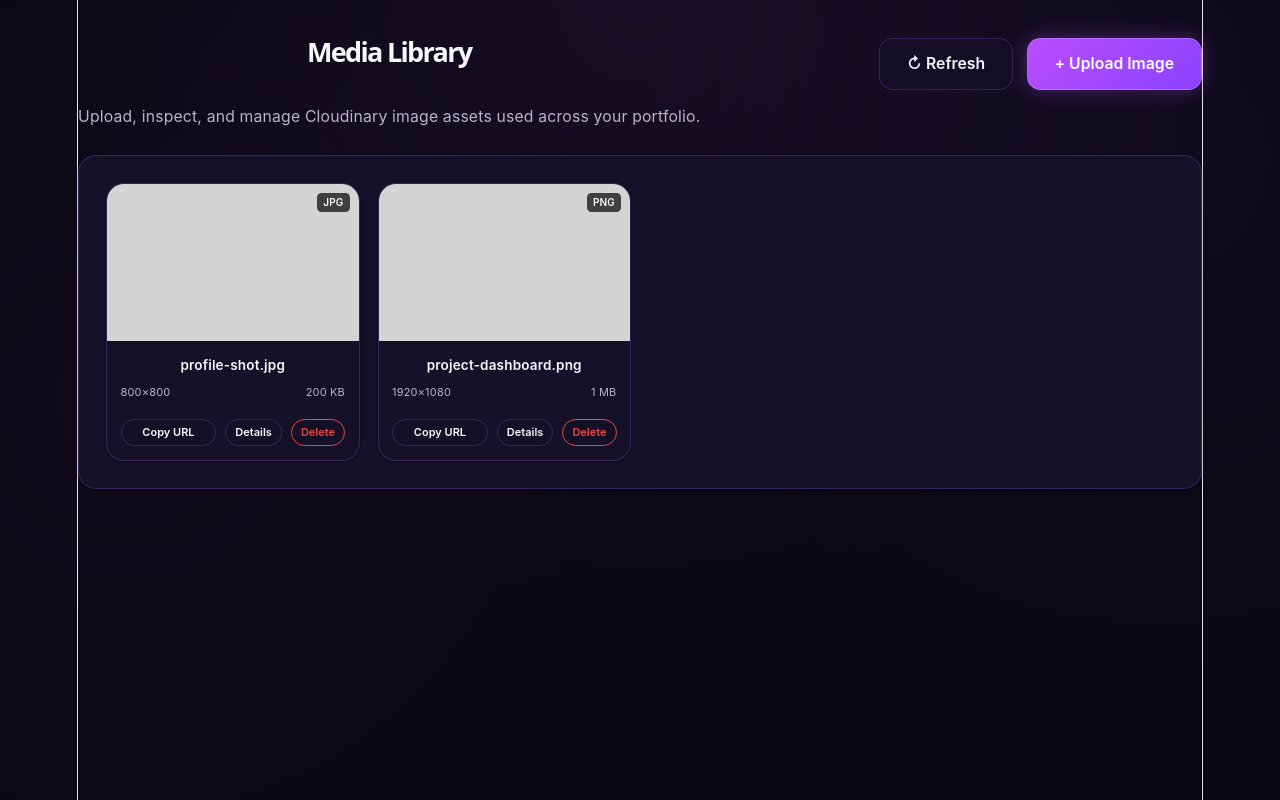
Test: MediaLibrary Component (src/pages/admin/MediaLibrary.jsx) › 6. Deletes media asset with confirmation dialog
Expected: the text "profile-shot.jpg" is shown, [180, 357, 285, 373]
Click the button "Delete" below "800×800" at (318, 432), box [291, 419, 345, 446]
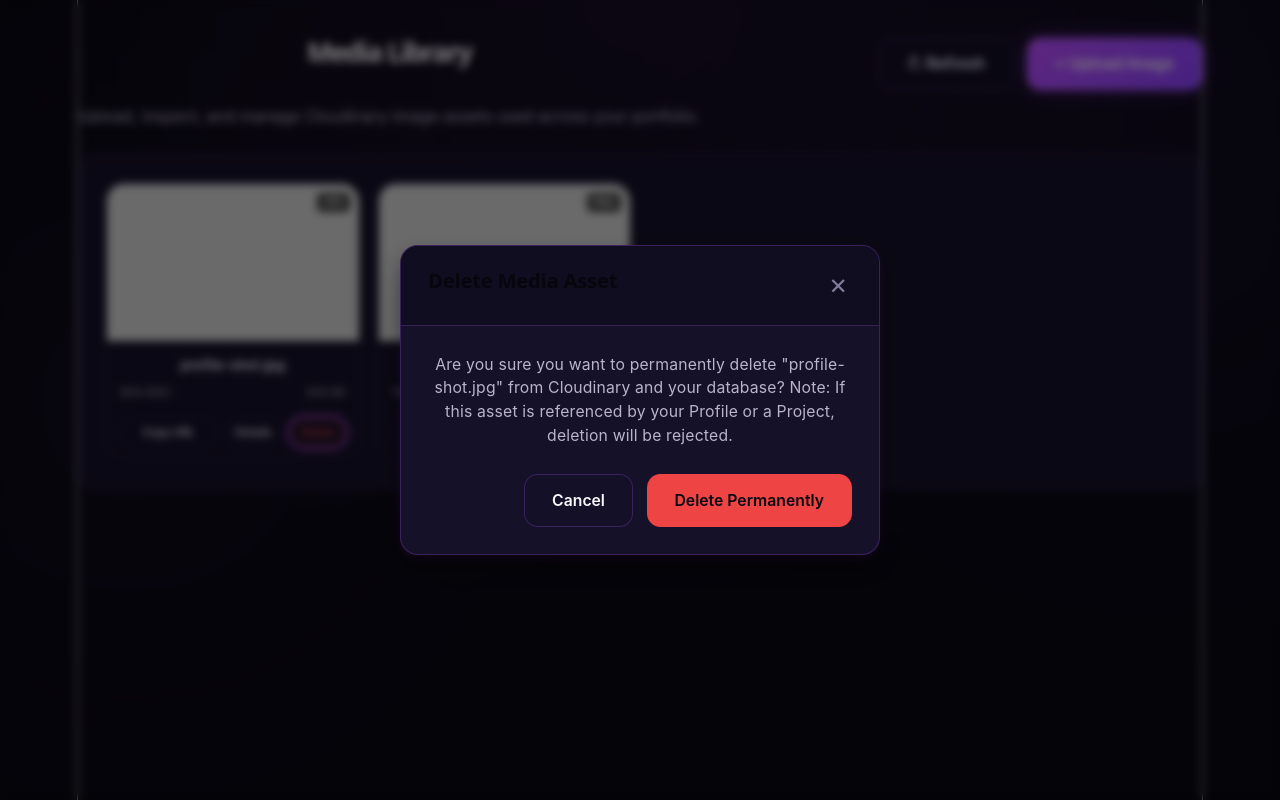
Result: the text "Are you sure you want to permanently delete \"profile-shot.jpg\"" is shown at [434, 355, 846, 445]
Click the button "Delete Permanently" at (749, 501), box [646, 474, 852, 527]
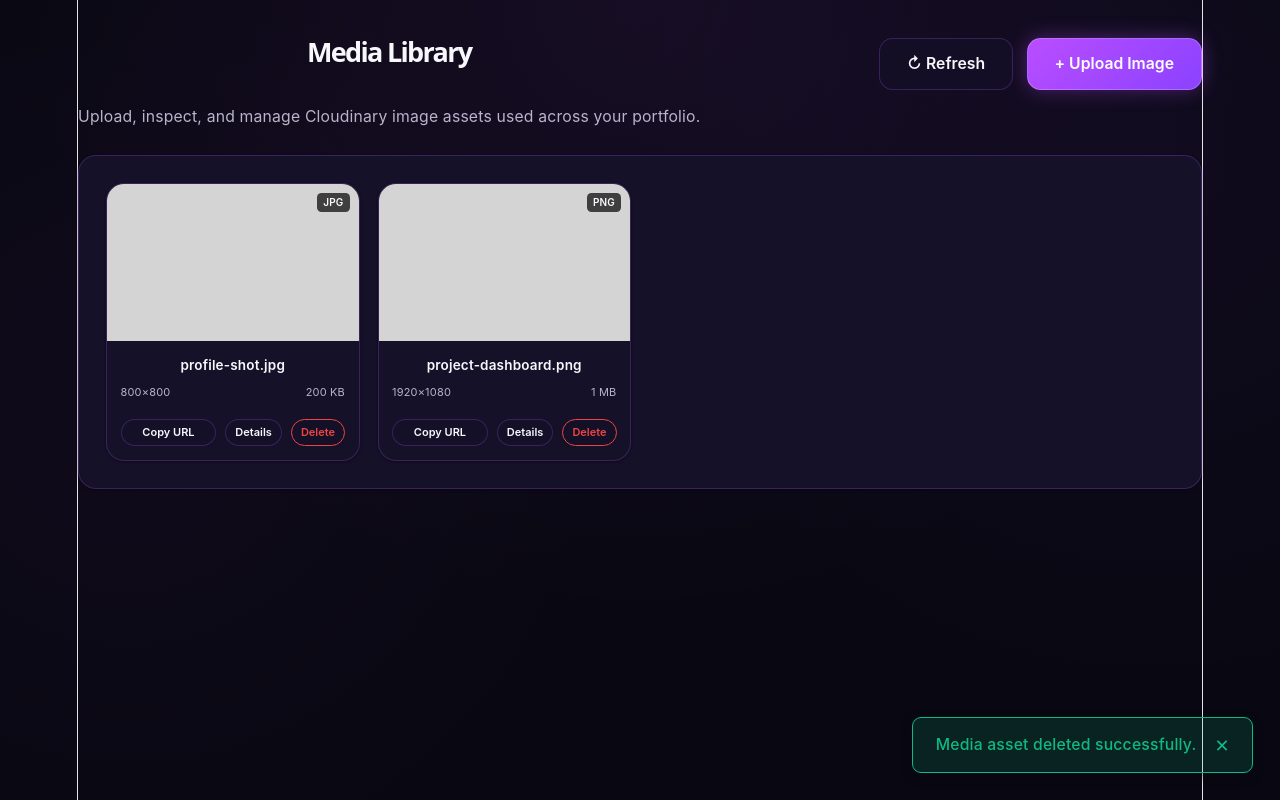
Result: the text "Media asset deleted successfully." is shown at [936, 733, 1196, 757]
